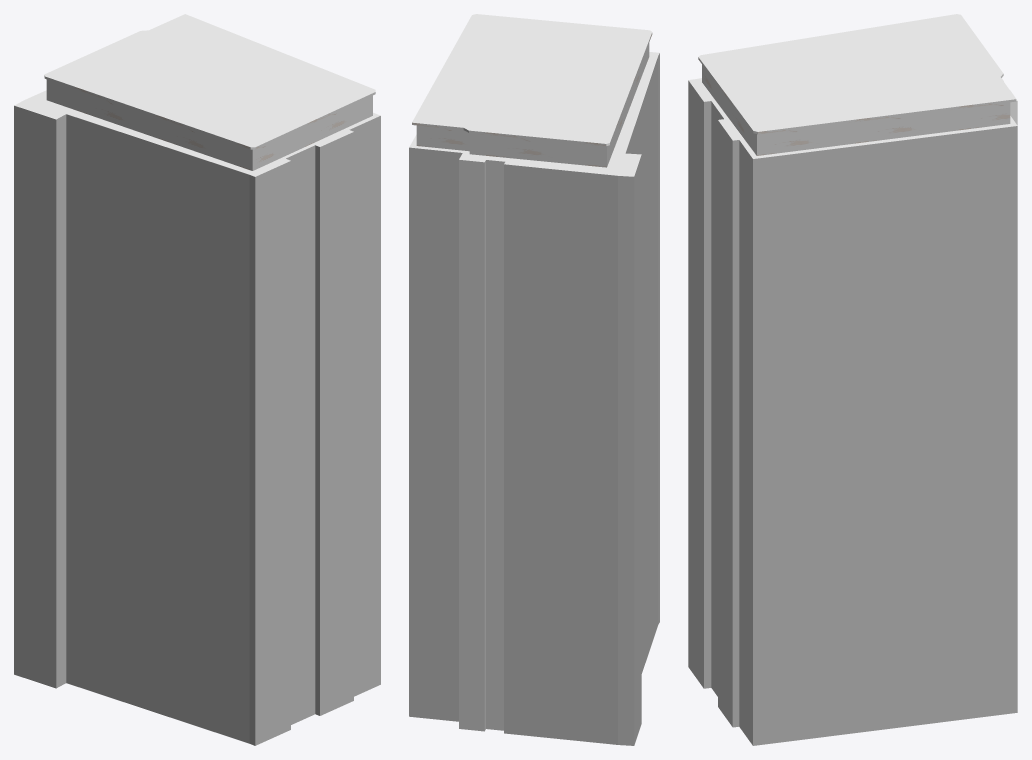
The picture shows the model from 3 angles, left to right: view 1: azimuth 30°, elevation 25°; view 2: azimuth 150°, elevation 25°; view 3: azimuth 270°, elevation 25°; orthographic projection. The views are drawn at different scales.
Visible parts, largest first — view 1: skpAEE4_001; view 2: skpAEE4_001; view 3: skpAEE4_001.
Boxes of the visible parts, x1,y1,x2,y2 form: skpAEE4_001: (14, 14, 380, 745); skpAEE4_001: (409, 14, 659, 745); skpAEE4_001: (688, 14, 1017, 745).
Bounding box in the file's own units: 1185 × 2541 × 1239.
